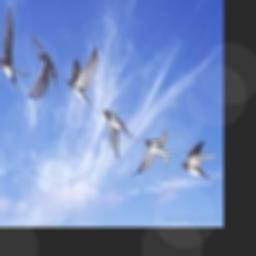Swallow: (66, 46, 103, 116), (0, 8, 29, 92), (132, 129, 176, 177), (28, 34, 60, 100), (102, 109, 140, 158), (181, 141, 216, 183)
